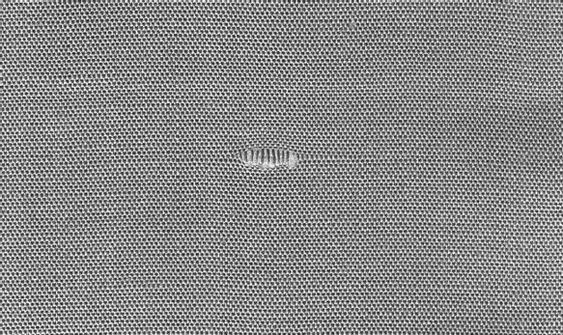Hole: (222, 128, 346, 186)
